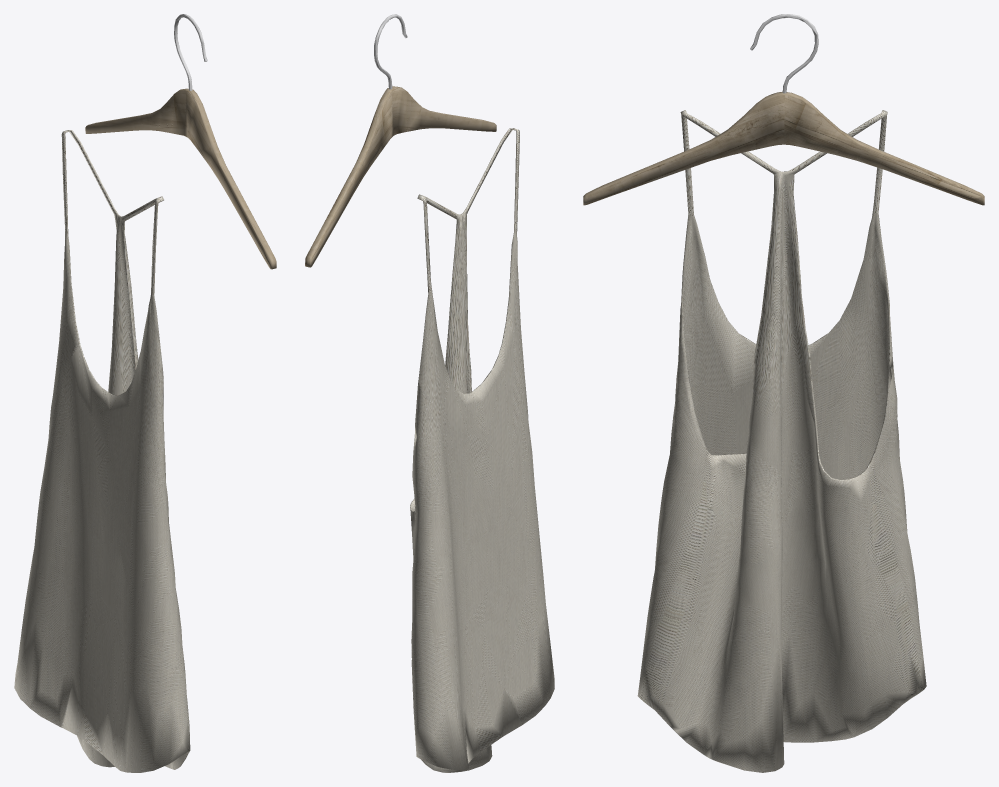
The model's file is rod-blouse22.glb.
The picture shows the model from 3 angles, left to right: view 1: azimuth 30°, elevation 25°; view 2: azimuth 150°, elevation 25°; view 3: azimuth 270°, elevation 25°; orthographic projection. The views are drawn at different scales.
Parts seen in each view (by area): view 1: blouse22.001, Hangers_for_clothes087.001; view 2: blouse22.001, Hangers_for_clothes087.001; view 3: blouse22.001, Hangers_for_clothes087.001.
Boxes of the visible parts, x1=… form: blouse22.001: x1=14, y1=130, x2=190, y2=772; Hangers_for_clothes087.001: x1=85, y1=14, x2=276, y2=269; blouse22.001: x1=410, y1=128, x2=554, y2=772; Hangers_for_clothes087.001: x1=305, y1=14, x2=496, y2=267; blouse22.001: x1=637, y1=110, x2=926, y2=772; Hangers_for_clothes087.001: x1=583, y1=14, x2=984, y2=205.
Bounding box in the file's own units: 0.1693 × 0.9402 × 0.4372.
Materials: 3 (2 with a texture image).
